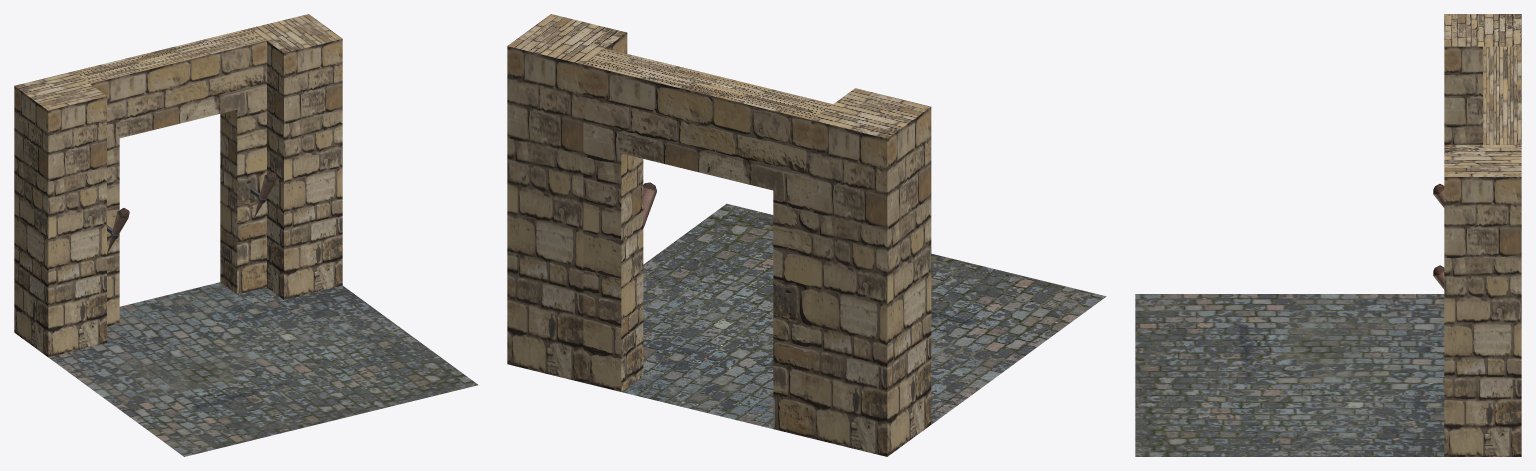
The model's file is 1-NESW-northDoor.fbx.
3 renders of one model, left to right at view 1: azimuth 30°, elevation 25°; view 2: azimuth 150°, elevation 25°; view 3: azimuth 270°, elevation 25°, orthographic. The views are drawn at different scales.
Visible parts, largest first — view 1: Cube_1_3, Plane; view 2: Cube_1_3, Plane; view 3: Plane, Cube_1_3.
Part boxes in pixels (x1,y1,x2,y2): Cube_1_3: (14,14,342,357); Plane: (48,282,478,456); Cube_1_3: (507,14,931,456); Plane: (622,203,1106,428); Plane: (1135,294,1444,456); Cube_1_3: (1444,14,1521,456).
Bounding box in the file's own units: 10 × 8 × 10.
Materials: 6 (6 with a texture image).
